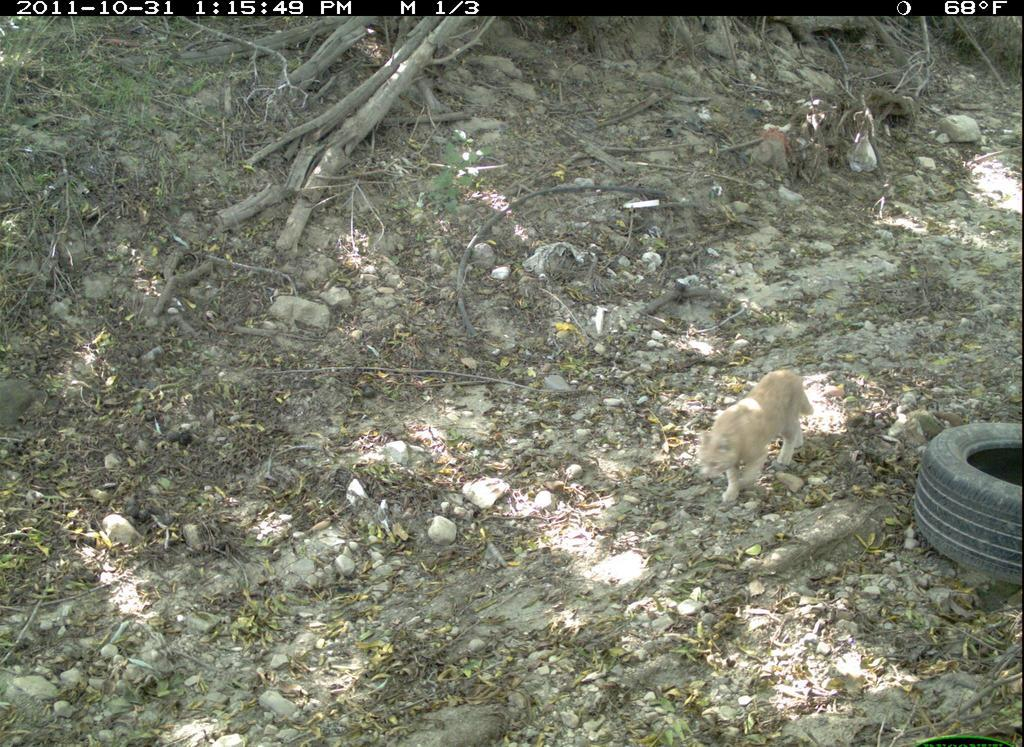cat: (689, 367, 821, 513)
